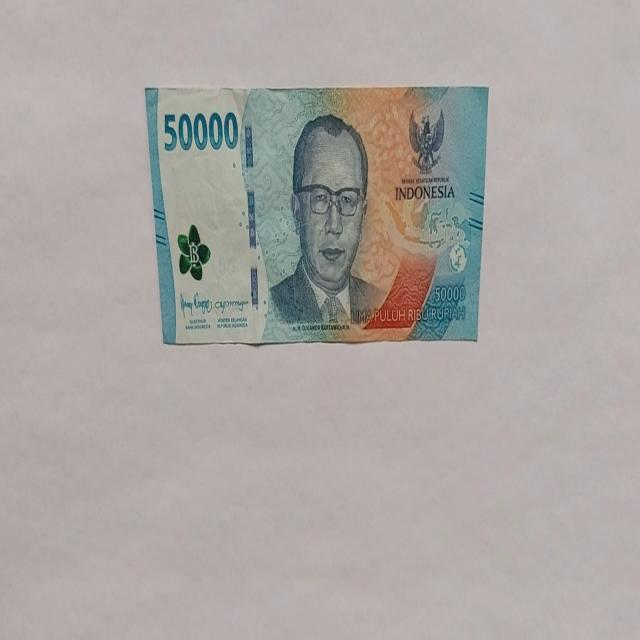lima puluh ribu rupiah: (144, 84, 489, 348), (266, 112, 388, 331)
